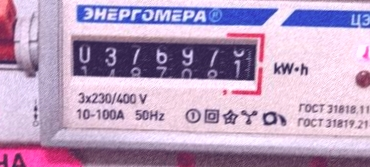0: (76, 42, 93, 63)
1: (232, 58, 243, 79)
3: (103, 44, 118, 68)
6: (155, 43, 169, 64)
7: (129, 42, 143, 66), (206, 44, 220, 68)
9: (180, 44, 194, 66)
screen: (64, 28, 268, 98)
